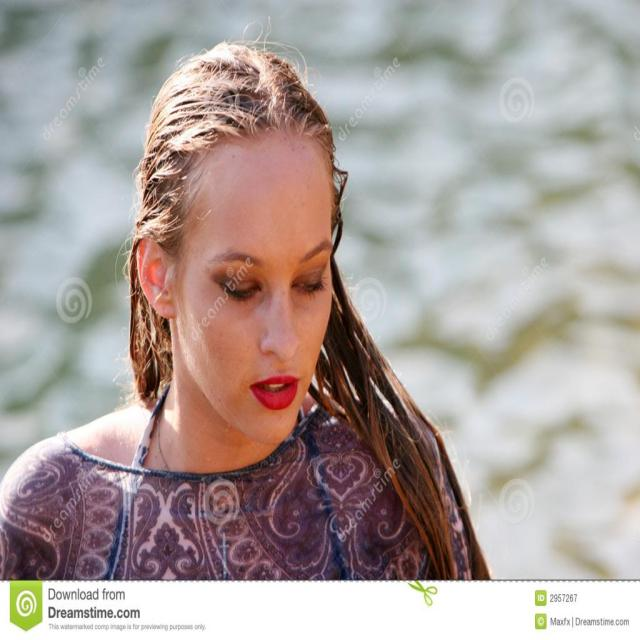Face: (167, 137, 336, 448)
